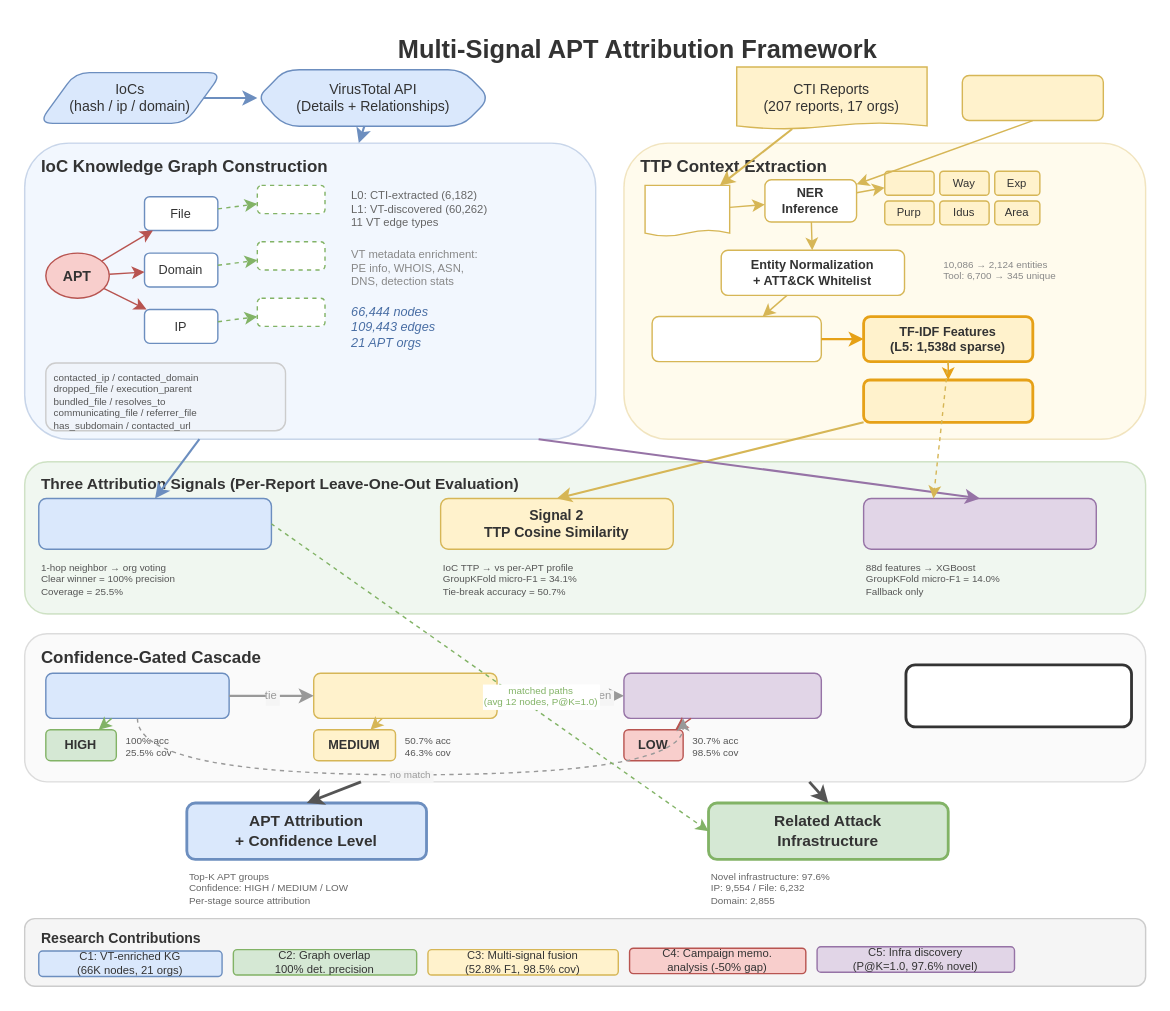
The diagram is 1170 pixels wide and 1011 high, and some of its shapes have lost their labels. Here are the shapes that lost their labels. From the top down, the centre of each, then its label:
(1032,97): NER-BERT-CRF (13 entity types)
(290,199): L1 File
(908,182): Tool
(687,210): Report Text
(290,255): L1 Dom
(290,311): L1 IP
(736,338): IoC → Report → TTP Mapping (6,054 IoCs)
(948,400): Per-APT TTP Profile (TF-IDF)
(154,523): Signal 1 Graph Overlap Matching
(979,523): Signal 3 VT Metadata Classifier
(136,695): Stage 1 Graph Clear Winner
(404,695): Stage 2 TTP Tie-Breaking
(722,695): Stage 3 ML Classifier (L1+L5)
(1018,695): Overall: micro-F1 = 52.8% macro-F1 = 63.5% coverage = 98.5%
